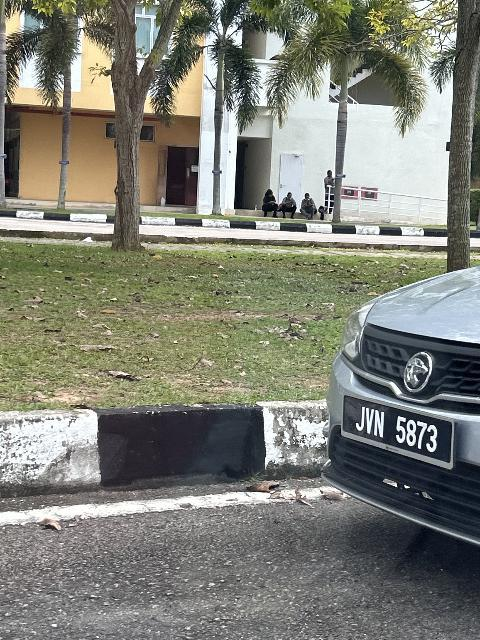JVN5873: (340, 393, 460, 478)
License_Plate: (340, 393, 460, 478)
